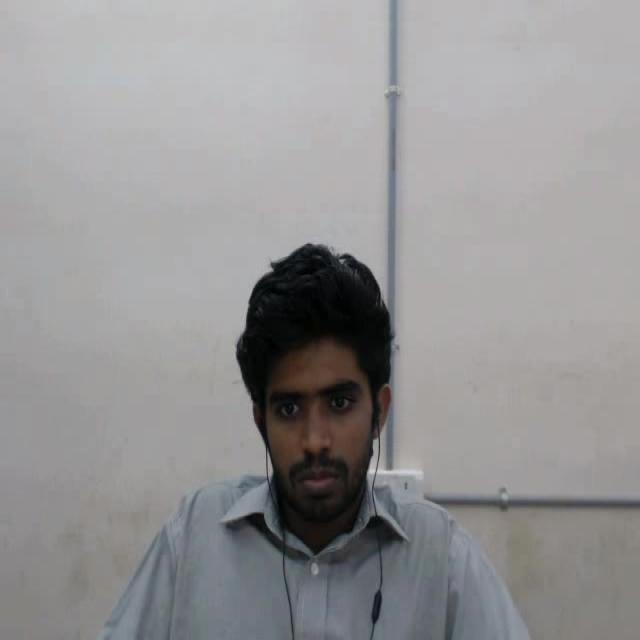Engaged: (228, 217, 422, 571)
